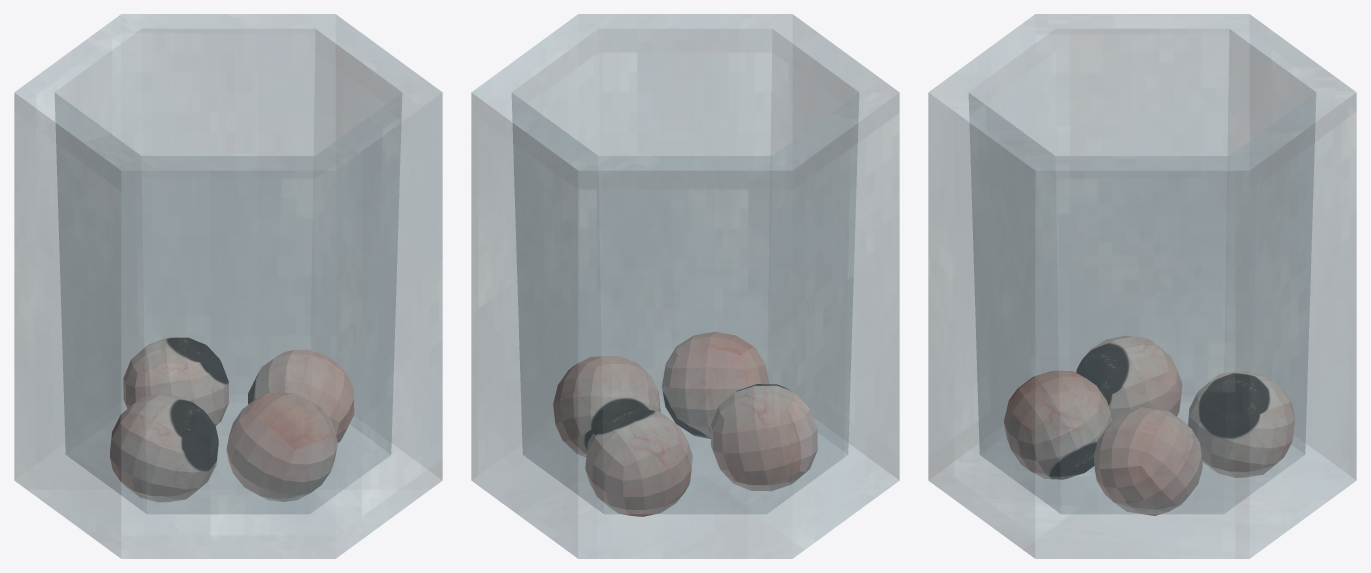
Rendered from CupWithIce.fbx.
3 renders of one model, left to right at view 1: azimuth 30°, elevation 25°; view 2: azimuth 150°, elevation 25°; view 3: azimuth 270°, elevation 25°, orthographic.
Parts seen in each view (by area): view 1: Cylinder_0, Cube.003, Cube.001, Cube.002, Cube; view 2: Cylinder_0, Cube.002, Cube.001, Cube.003, Cube; view 3: Cylinder_0, Cube, Cube.003, Cube.002, Cube.001.
Part boxes in pixels (x1=…): Cylinder_0: x1=14, y1=14, x2=442, y2=558; Cube.003: x1=226, y1=392, x2=337, y2=501; Cube.001: x1=110, y1=394, x2=218, y2=501; Cube.002: x1=123, y1=337, x2=228, y2=425; Cube: x1=248, y1=349, x2=354, y2=442; Cylinder_0: x1=471, y1=14, x2=899, y2=558; Cube.002: x1=585, y1=408, x2=692, y2=516; Cube.001: x1=711, y1=384, x2=817, y2=490; Cube.003: x1=662, y1=331, x2=768, y2=438; Cube: x1=553, y1=356, x2=660, y2=456; Cylinder_0: x1=928, y1=14, x2=1356, y2=558; Cube: x1=1093, y1=407, x2=1202, y2=515; Cube.003: x1=1003, y1=370, x2=1112, y2=479; Cube.002: x1=1188, y1=371, x2=1294, y2=477; Cube.001: x1=1076, y1=335, x2=1182, y2=420.
Bounding box in the file's own units: 13182 × 15221 × 15221.
5 materials, 5 textured.
